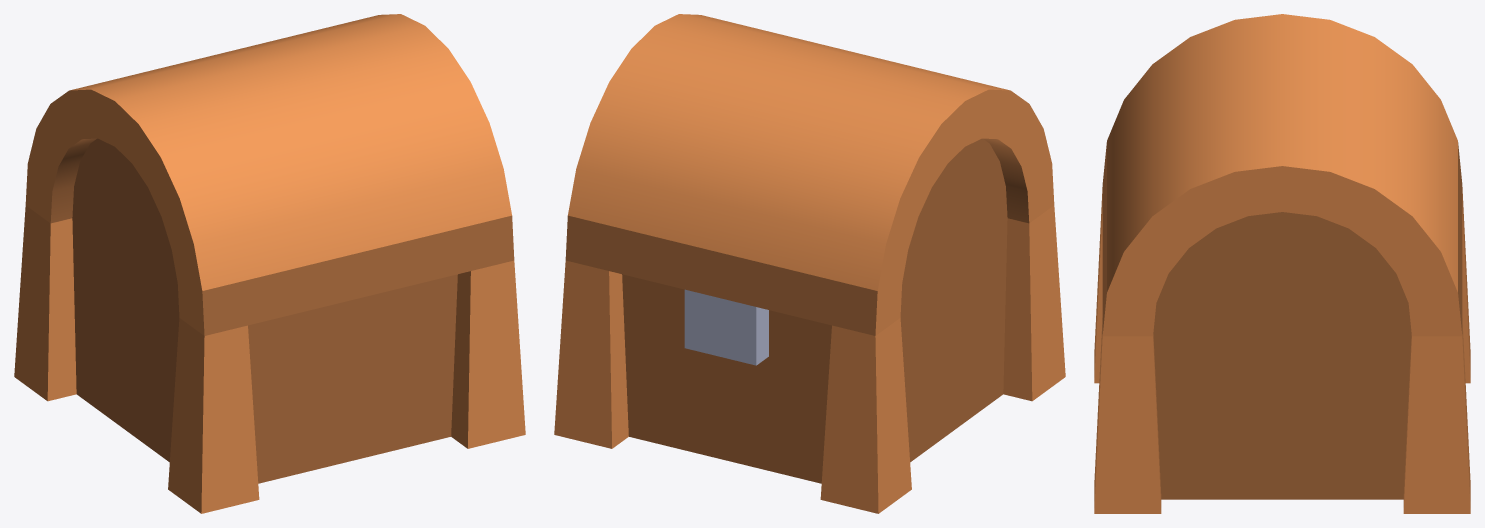
The model's file is chest.obj.
3 views of the same model, side by side, from view 1: azimuth 30°, elevation 25°; view 2: azimuth 150°, elevation 25°; view 3: azimuth 270°, elevation 25° (orthographic).
Visible parts, largest first — view 1: lid, chest; view 2: lid, chest; view 3: lid, chest.
Part boxes in pixels (x1,y1,x2,y2): lid: [25, 14, 514, 335]; chest: [14, 205, 525, 513]; lid: [565, 14, 1054, 335]; chest: [554, 205, 1065, 513]; lid: [1102, 14, 1462, 336]; chest: [1094, 187, 1470, 513].
Bounding box in the file's own units: 0.2604 × 0.2628 × 0.2604.
